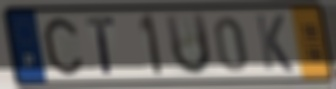0: (212, 15, 251, 73)
1: (137, 12, 165, 78)
C: (41, 15, 85, 78)
K: (253, 12, 296, 75)
T: (84, 15, 117, 77)
U: (163, 10, 214, 79)
